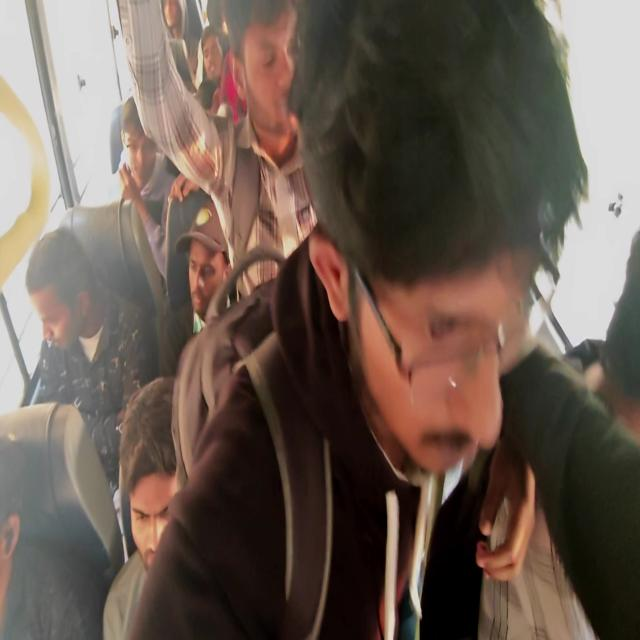person: (122, 0, 590, 638), (419, 229, 639, 638), (116, 0, 319, 307), (24, 225, 156, 556), (102, 374, 181, 638), (118, 94, 180, 290), (174, 198, 234, 334)
